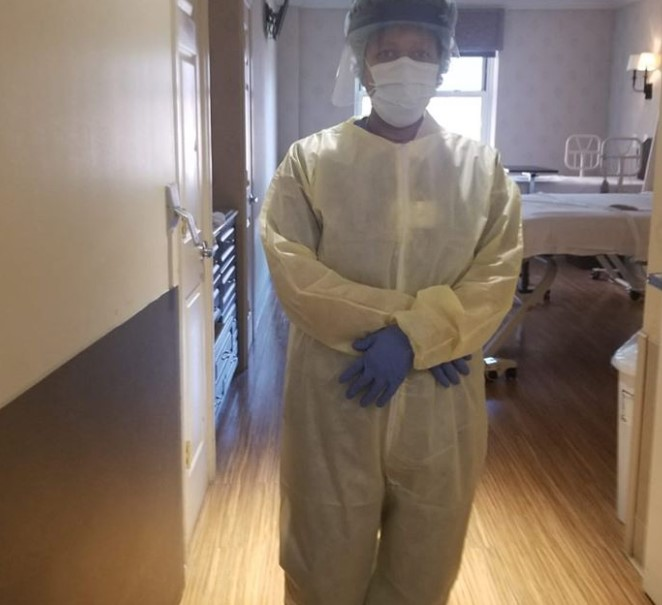face_with_mask: (339, 5, 459, 116)
